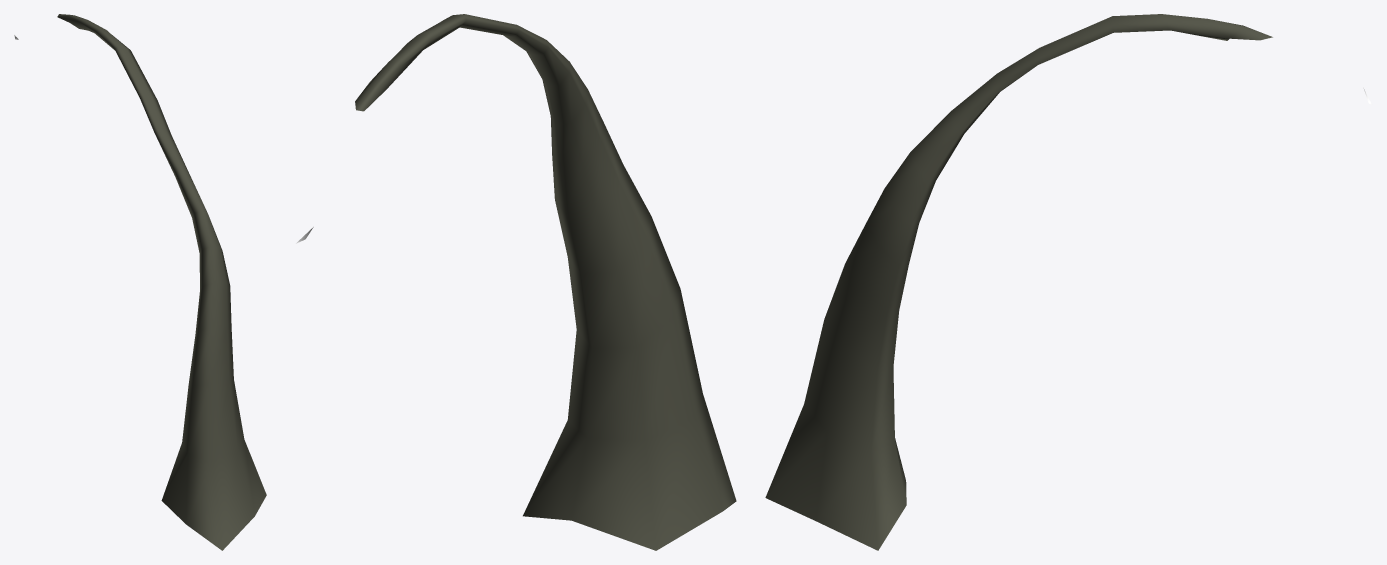
The model's file is antena_pez.obj.
The picture shows the model from 3 angles, left to right: view 1: azimuth 30°, elevation 25°; view 2: azimuth 150°, elevation 25°; view 3: azimuth 270°, elevation 25°; orthographic projection. The views are drawn at different scales.
Visible parts, largest first — view 1: pasted__polySurface2_pasted__lambert13_0_Material.002; view 2: pasted__polySurface2_pasted__lambert13_0_Material.002; view 3: pasted__polySurface2_pasted__lambert13_0_Material.002.
Boxes of the visible parts, x1,y1,x2,y2 form: pasted__polySurface2_pasted__lambert13_0_Material.002: [14, 14, 266, 550]; pasted__polySurface2_pasted__lambert13_0_Material.002: [296, 14, 736, 550]; pasted__polySurface2_pasted__lambert13_0_Material.002: [765, 14, 1371, 550].
Bounding box in the file's own units: 2.52 × 9.35 × 10.18.
